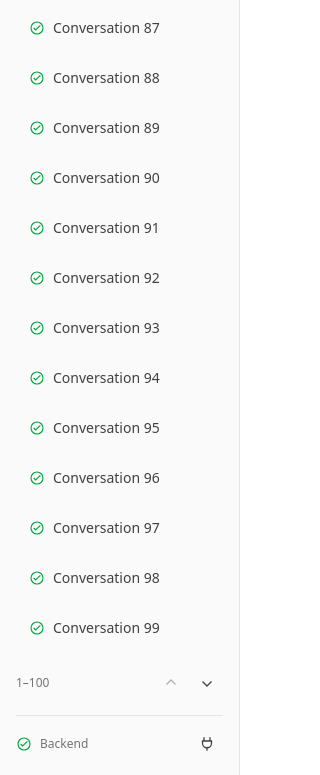
Test: large loaded lists render only one page and search all loaded sessions
(page scrolled)
Check: the text "1–100" is shown, box [16,675,50,691]
Click the button named "Older conversations": x=207, y=683 [191,667,223,699]
(page scrolled)
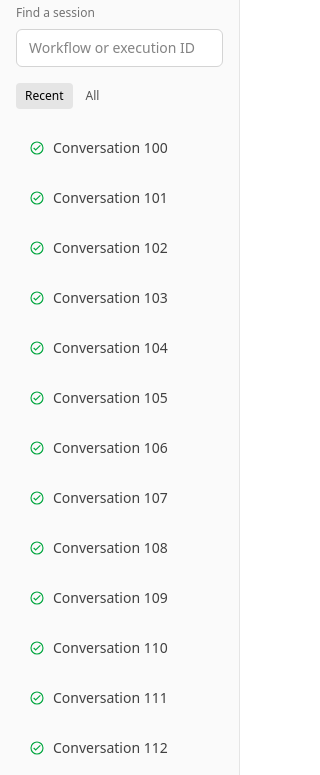
Check: the text "Conversation 100" is shown, box [53,138,168,157]
Click the button "Conversation 100": x=120, y=148 [16,125,223,171]
(page scrolled)
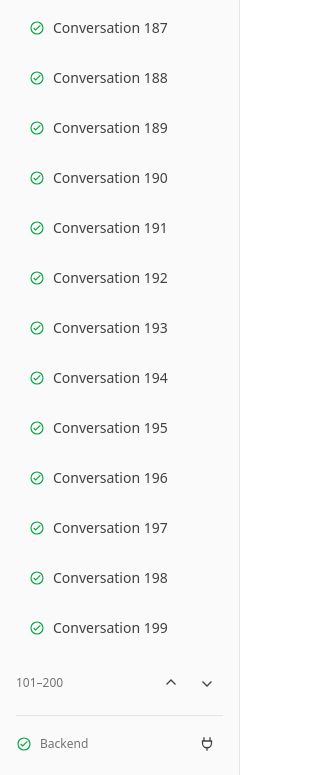
Click the button named "Newer conversations": x=171, y=683 [155,667,187,699]
(page scrolled)
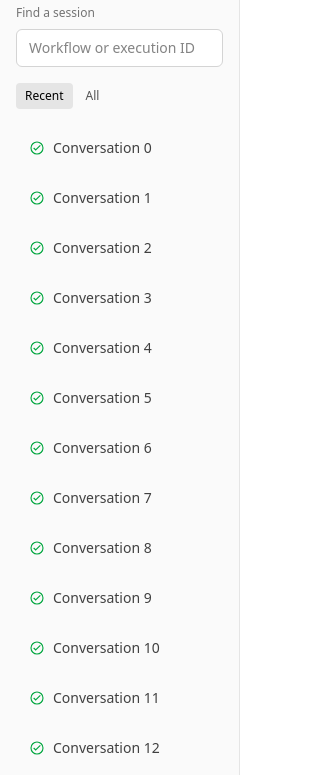
Check: the text "Conversation 0" is shown, box [53,138,152,157]
In the search field: x=120, y=48 [16,29,223,67], type "Conversation 9999"
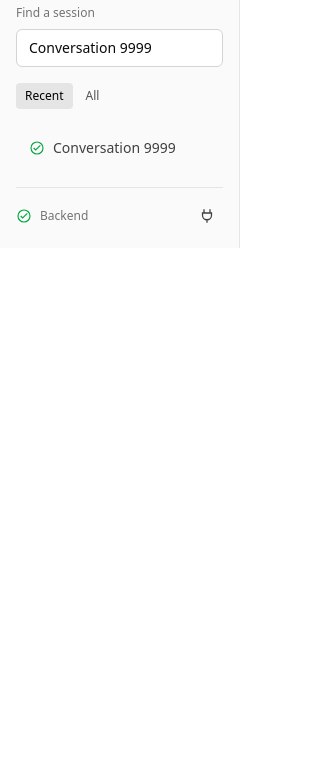
Check: the text "Conversation 9999" is shown, box [53,138,176,157]
